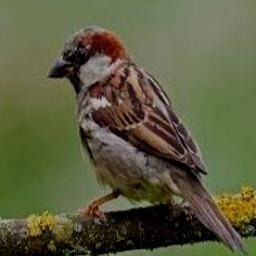Sparrow: (47, 26, 247, 254)
